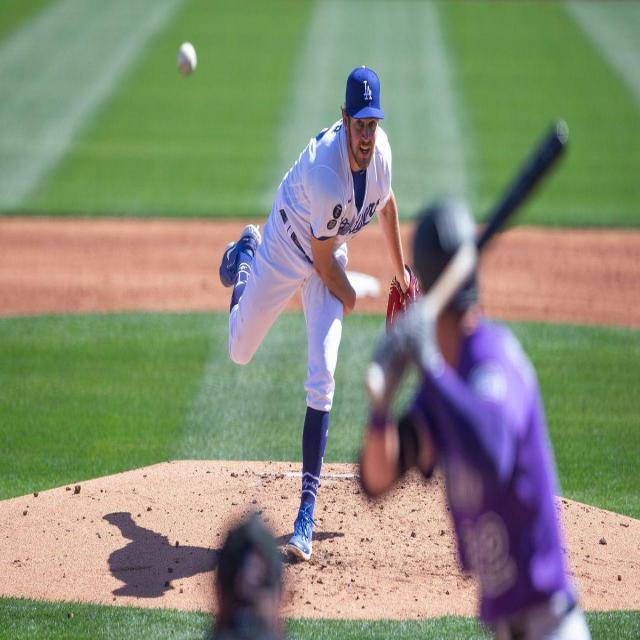baseball: (175, 41, 197, 78)
